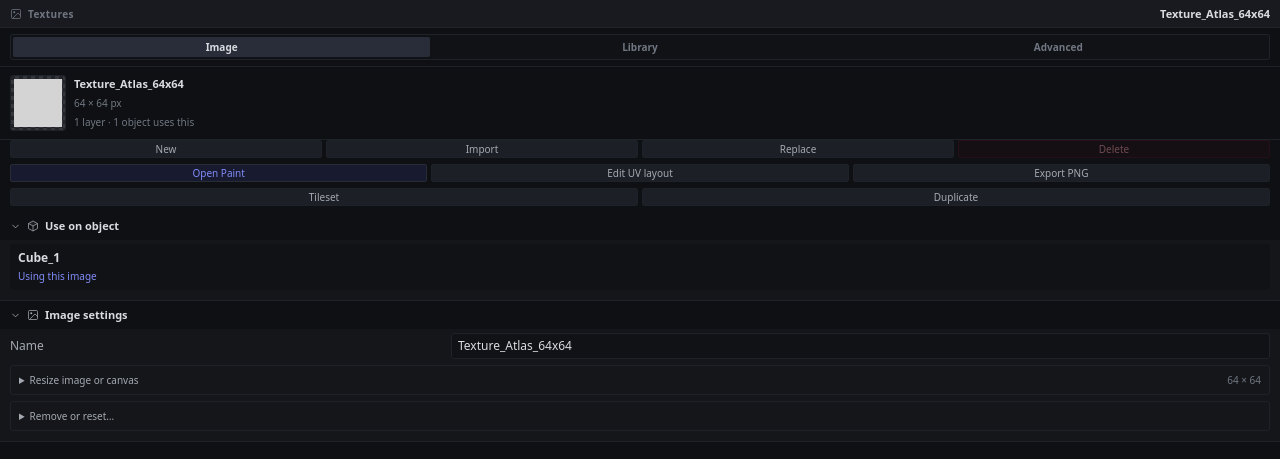
Test: Texture inspector workflow › keeps atlas and scene-wide actions out of the everyday image tab
Click the button "Advanced": (1058, 47) [850,37,1267,57]
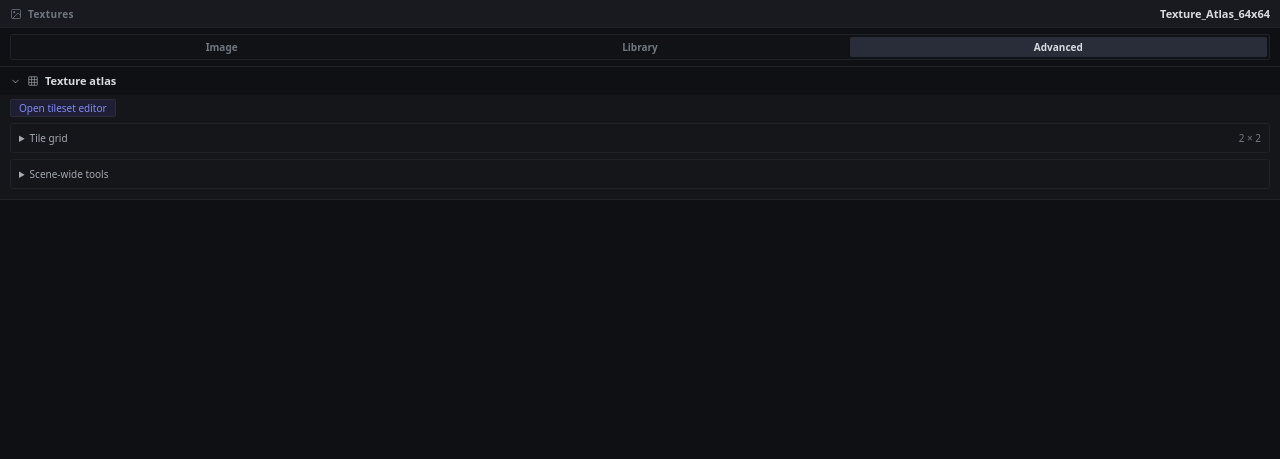
Result: the text "Texture atlas" is shown at [45,73,116,89]
